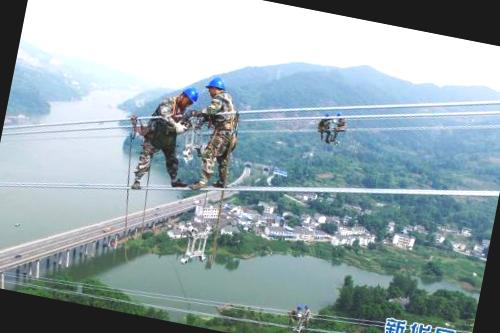person: (129, 78, 202, 192), (185, 73, 250, 194), (315, 109, 337, 144), (331, 109, 350, 140)
